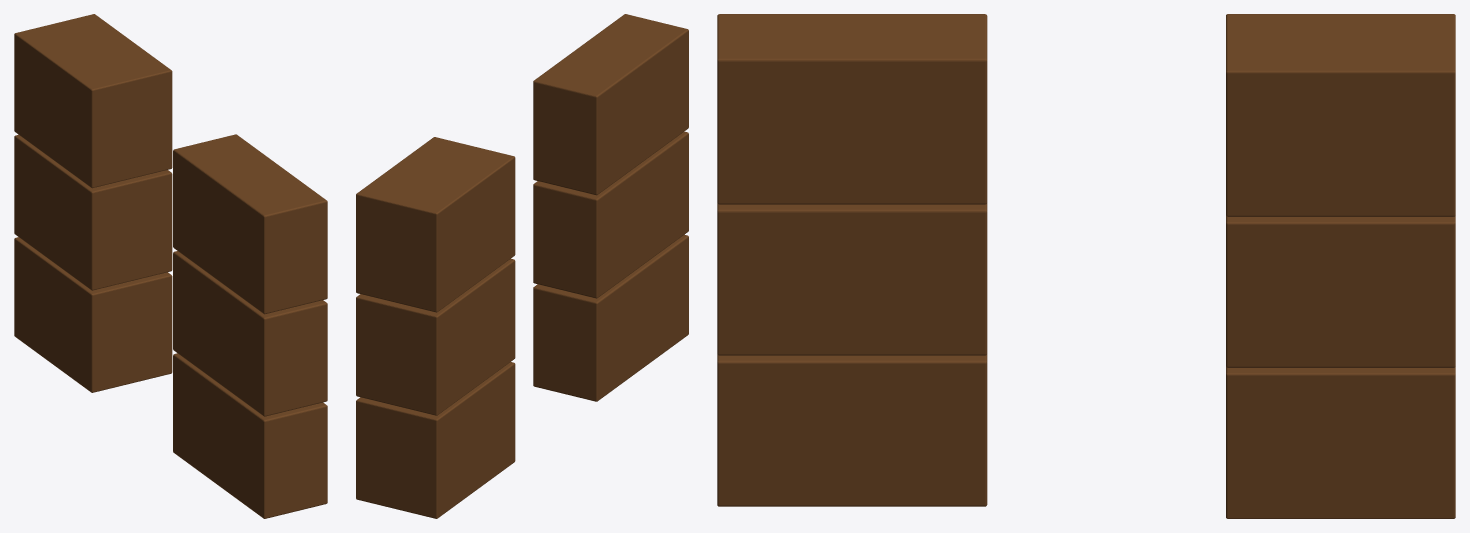
Rendered from wood_cabinets_0.obj.
3 views of the same model, side by side, from view 1: azimuth 30°, elevation 25°; view 2: azimuth 150°, elevation 25°; view 3: azimuth 270°, elevation 25° (orthographic). The views are drawn at different scales.
Size of the model in its own units: 0.48 by 1.72 by 2.57.
